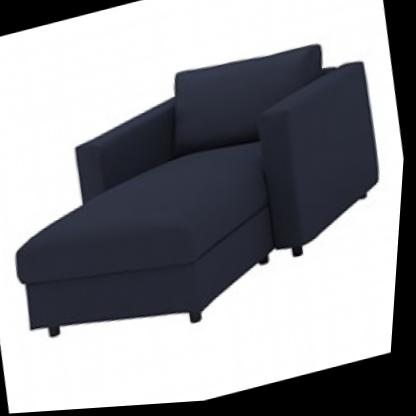Sofa: (0, 13, 414, 381)
